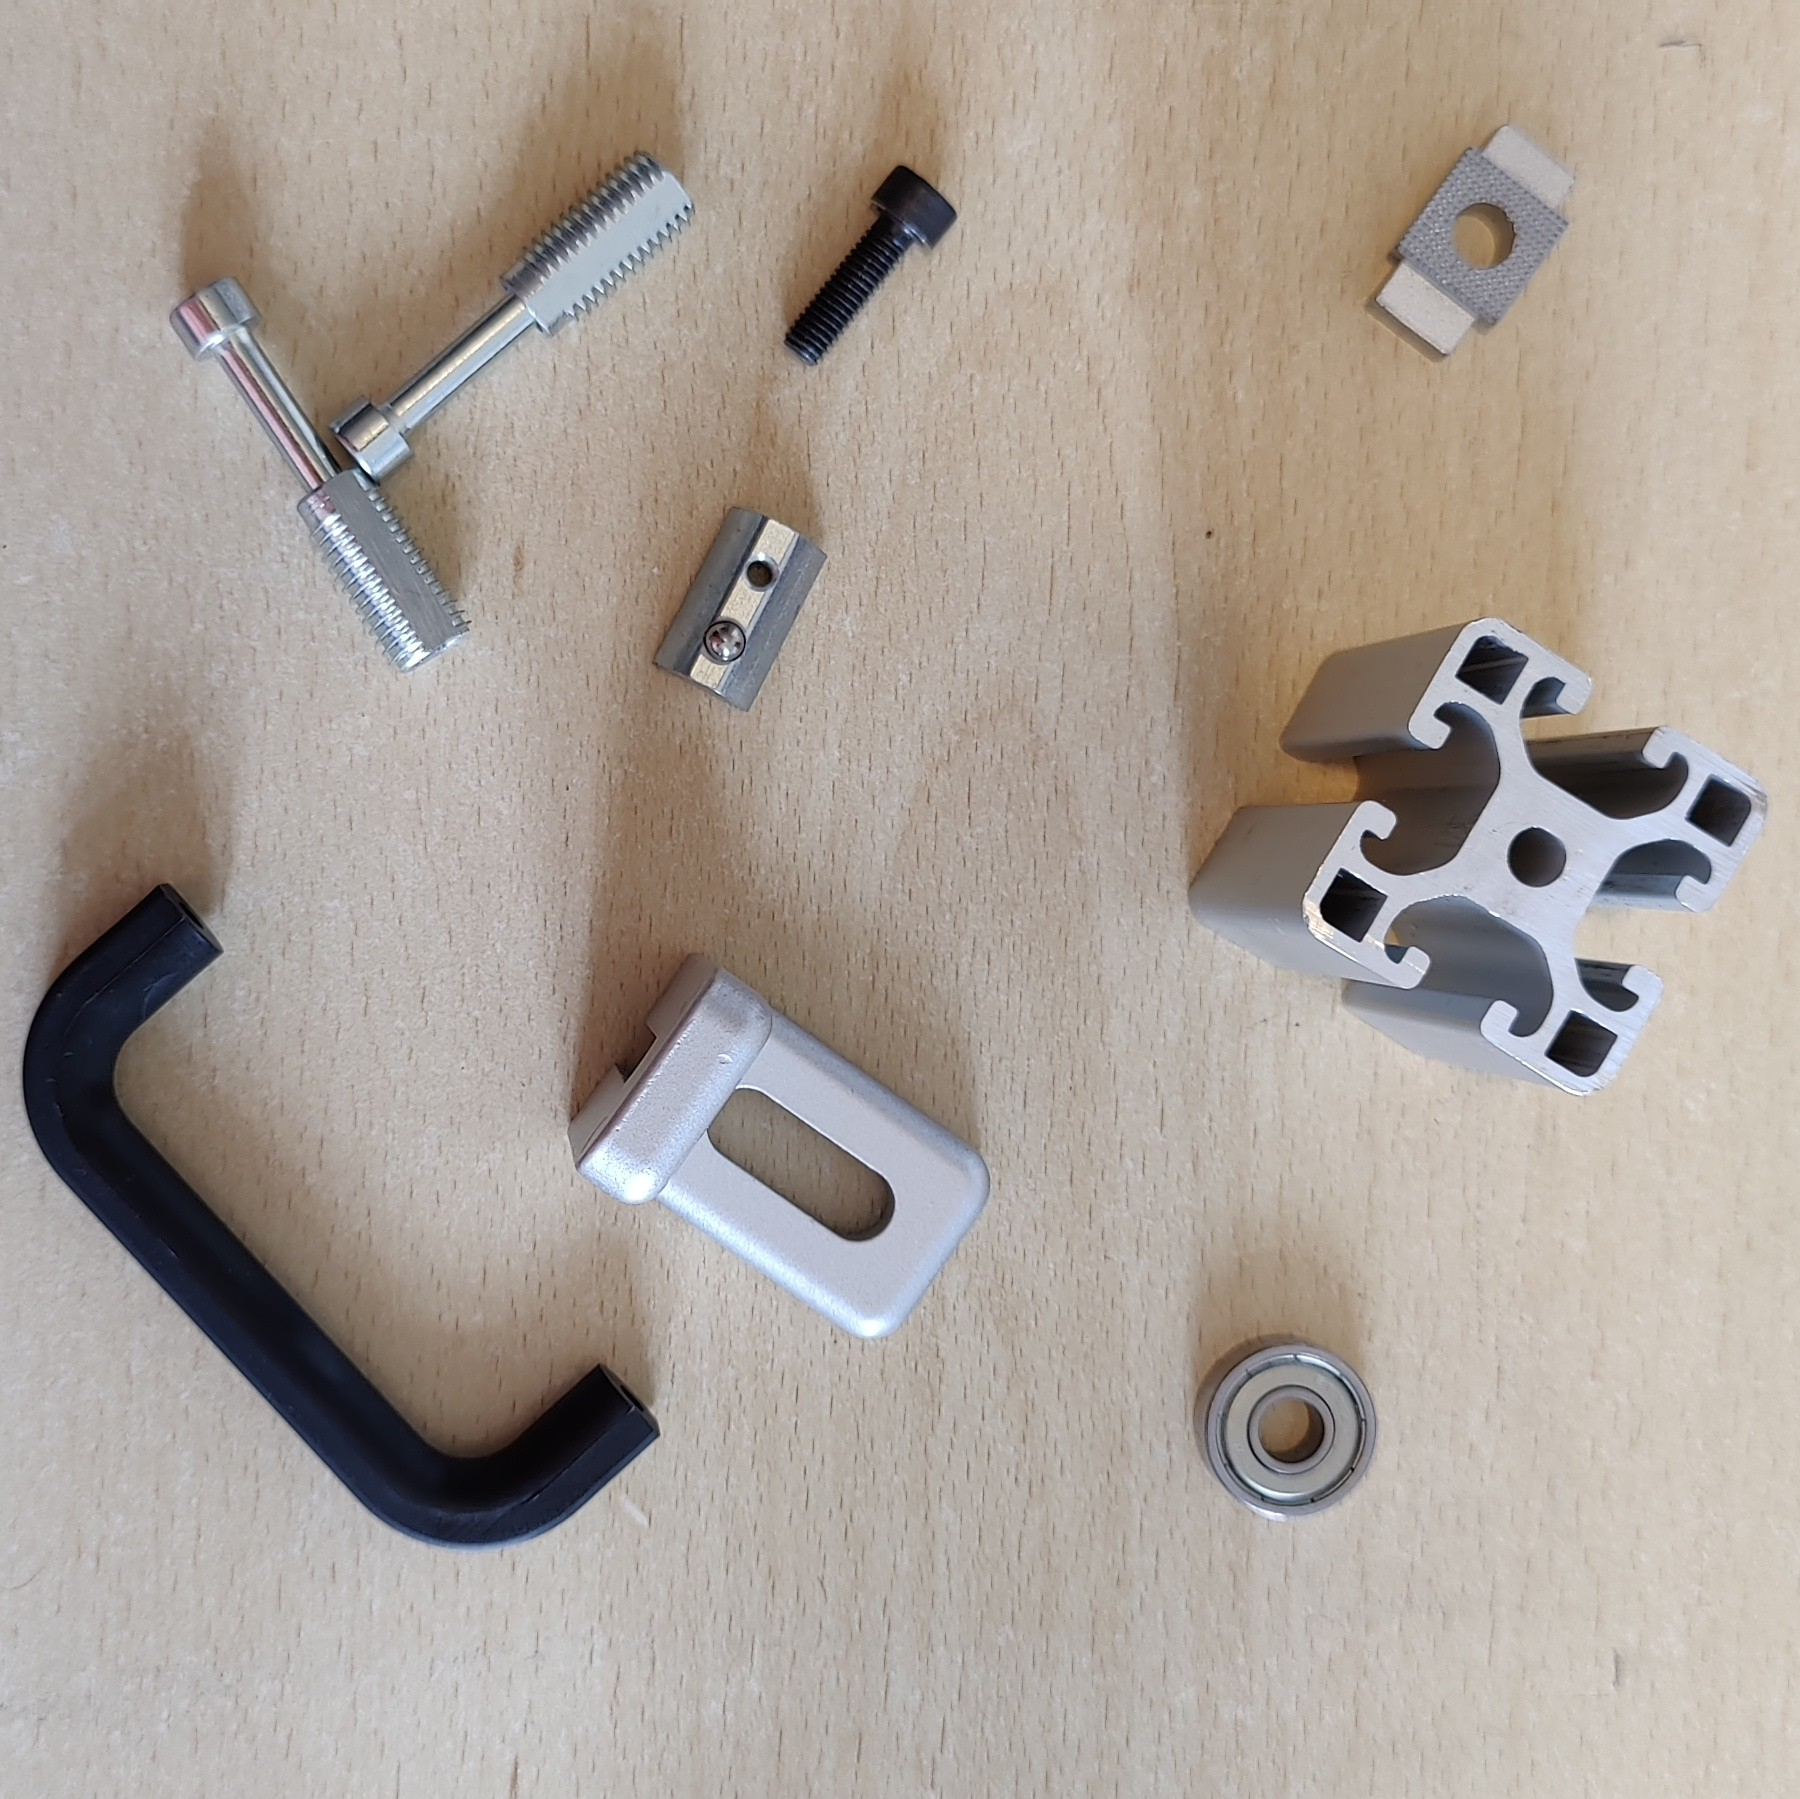Aluminium Extension: (1186, 614, 1770, 1099)
Ball Bearing: (1191, 1331, 1382, 1522)
Multiwinkel: (563, 951, 993, 1343)
Pull Handle: (23, 876, 664, 1550)
Shoulder Socket Head Cap Screw: (328, 142, 698, 488), (166, 270, 474, 674)
Socket Head Cap Screw: (782, 157, 962, 369)
T Nut Square: (1360, 122, 1579, 362)
T Spring Nut: (651, 502, 832, 713)
